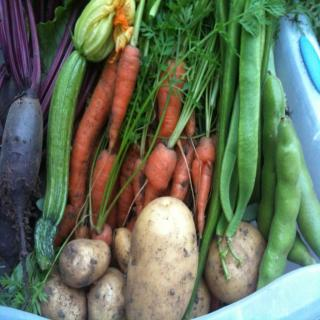Carrot: (117, 57, 218, 253), (78, 0, 146, 240)
Potato: (35, 194, 267, 320)
